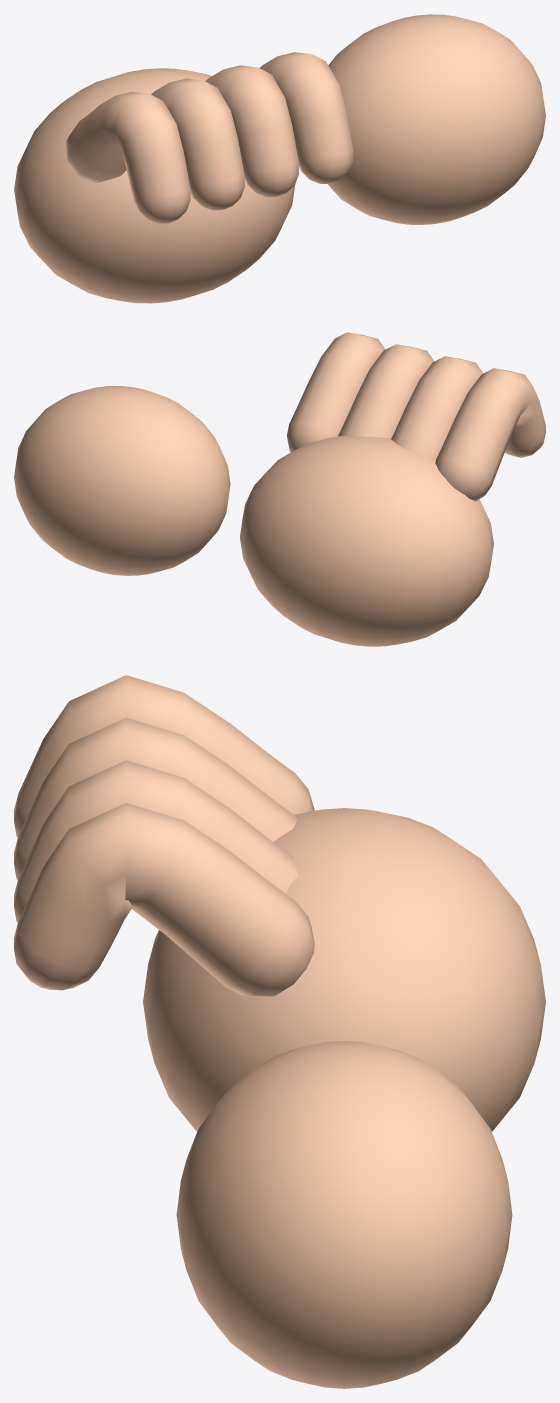
Rendered from icon_hands.glb.
3 renders of one model, top to bottom at view 1: azimuth 30°, elevation 25°; view 2: azimuth 150°, elevation 25°; view 3: azimuth 270°, elevation 25°, orthographic. The views are drawn at different scales.
Visible parts, largest first — view 1: icon_hands; view 2: icon_hands; view 3: icon_hands.
Boxes of the visible parts, bbox=[...] form: icon_hands: bbox=[14, 14, 545, 303]; icon_hands: bbox=[14, 332, 545, 646]; icon_hands: bbox=[14, 675, 545, 1388].
Bounding box in the file's own units: 0.56 × 0.2785 × 0.3168.
